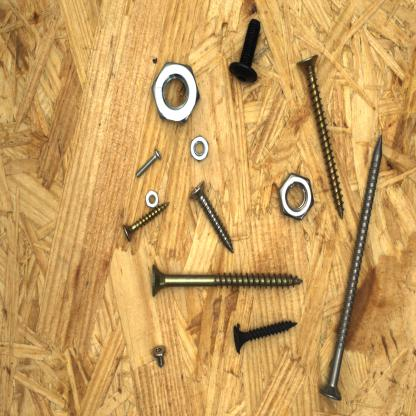screw: (317, 131, 386, 403), (294, 52, 347, 220), (147, 260, 307, 298), (186, 177, 236, 256), (228, 316, 302, 358), (226, 13, 264, 88), (119, 198, 172, 245), (134, 146, 164, 181), (148, 341, 170, 372)
